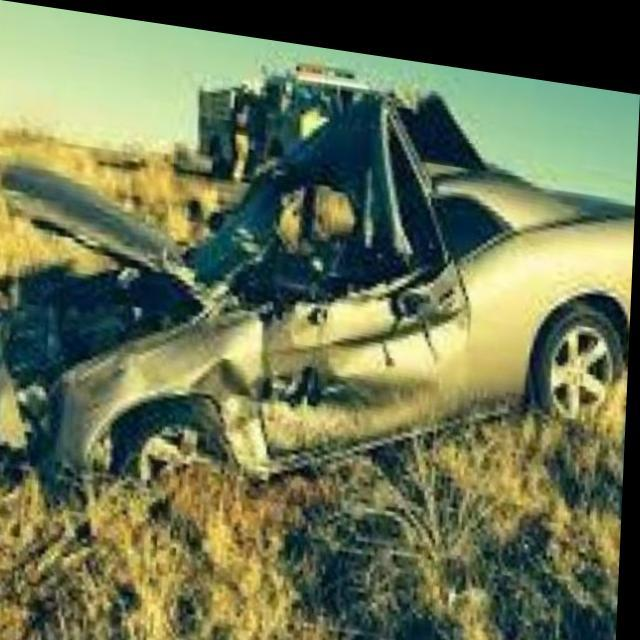crash: (0, 78, 471, 479)
